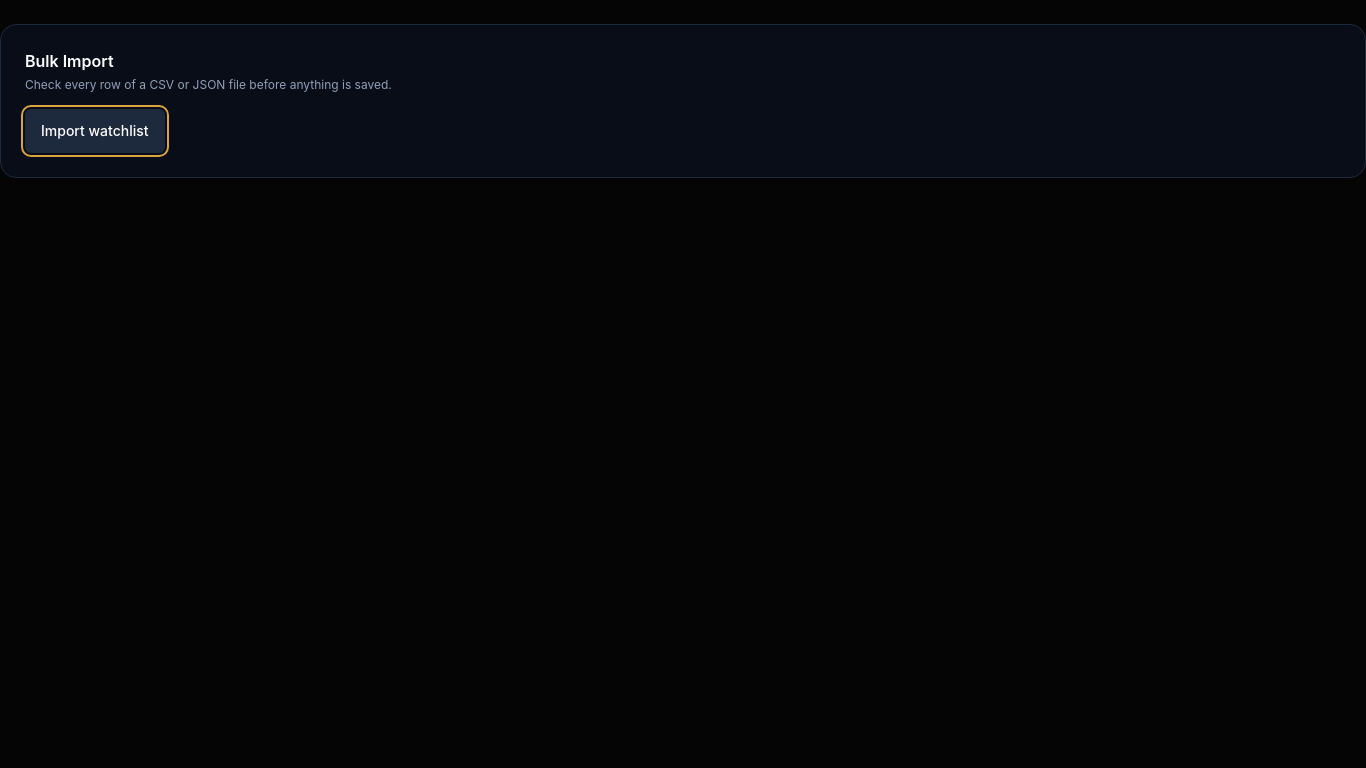
Test: import wizard › closes on Escape and restores focus
Click the button "Import watchlist" at (95,131), box [25,109,164,153]
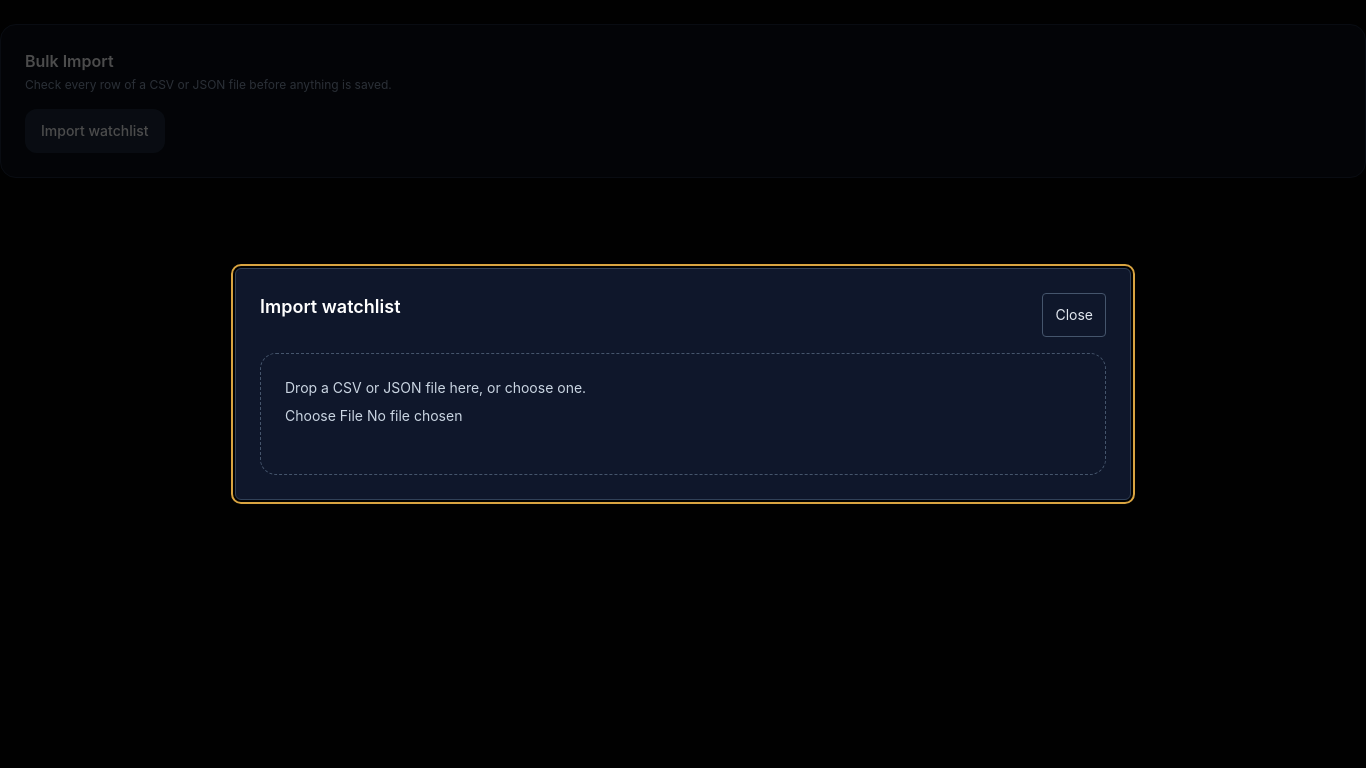
Press Escape
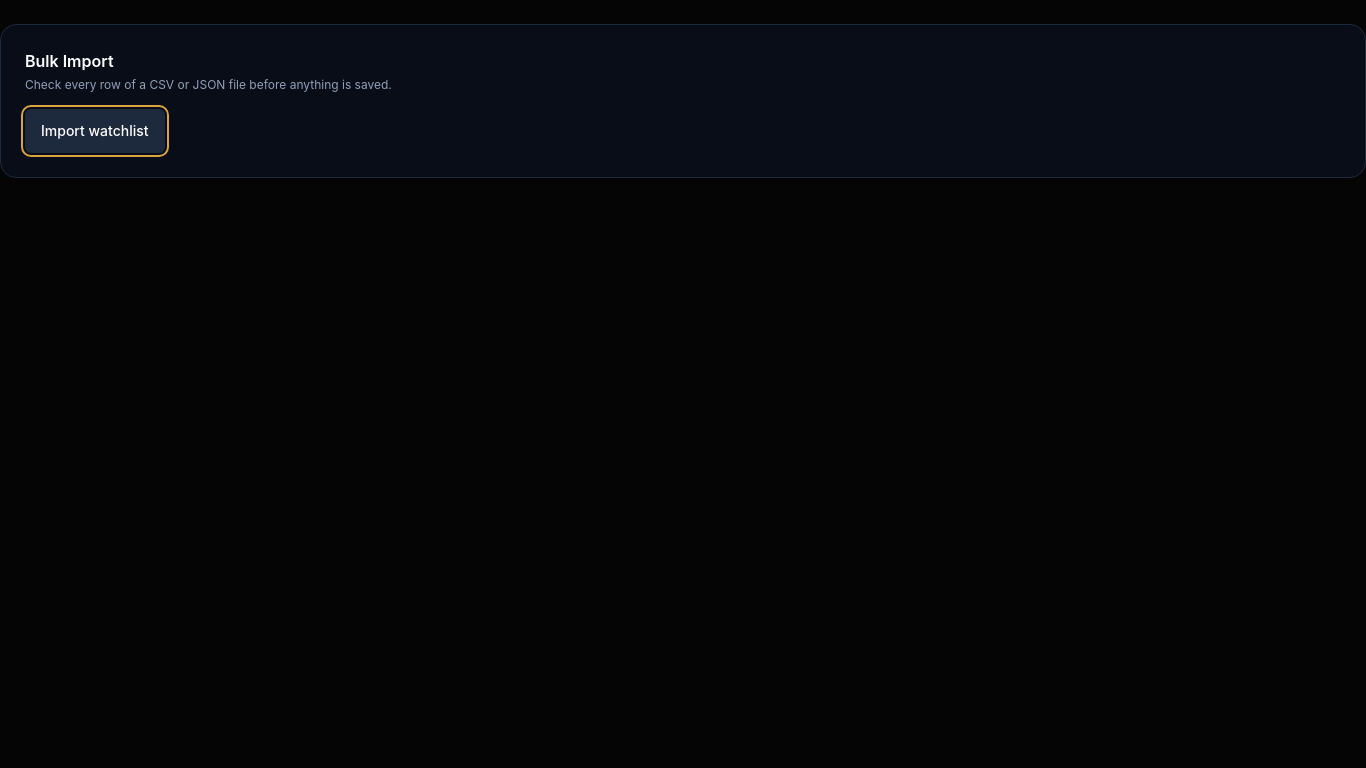
Check: the dialog is gone
